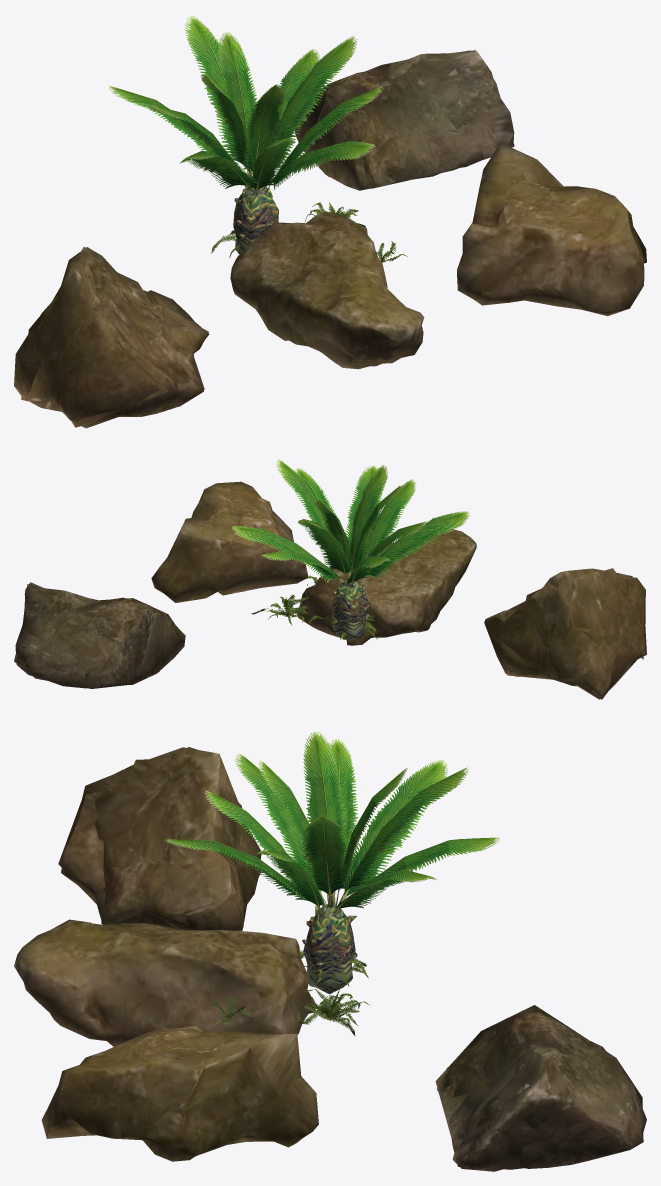
Rendered from realiste.glb.
3 renders of one model, top to bottom at view 1: azimuth 30°, elevation 25°; view 2: azimuth 150°, elevation 25°; view 3: azimuth 270°, elevation 25°, orthographic. The views are drawn at different scales.
Visible parts, largest first — view 1: rock_moss_set_01_rock06, rock_moss_set_01_rock05, rock_moss_set_01_rock04, rock_moss_set_01_rock03, rock_moss_set_01_rock04.001, rock_moss_set_01_rock03.001, Leaf.009_PalmLeaves_0, Leaf_PalmLeaves_0, Leaf.001_PalmLeaves_0, Leaf.010_PalmLeaves_0, Trunk_PalmTrunk_0, Leaf.008_PalmLeaves_0 (+7 smaller); view 2: rock_moss_set_01_rock06, rock_moss_set_01_rock04, rock_moss_set_01_rock05, rock_moss_set_01_rock03, rock_moss_set_01_rock04.001, rock_moss_set_01_rock03.001, Leaf.006_PalmLeaves_0, Trunk_PalmTrunk_0, Leaf.010_PalmLeaves_0, Leaf.004_PalmLeaves_0, Leaf.001_PalmLeaves_0, Leaf.002_PalmLeaves_0 (+9 smaller); view 3: rock_moss_set_01_rock05, rock_moss_set_01_rock06, rock_moss_set_01_rock04, rock_moss_set_01_rock03, rock_moss_set_01_rock04.001, rock_moss_set_01_rock03.001, Trunk_PalmTrunk_0, Leaf.005_PalmLeaves_0, Leaf.012_PalmLeaves_0, Leaf.009_PalmLeaves_0, Leaf.001_PalmLeaves_0, Leaf.006_PalmLeaves_0 (+9 smaller).
Part boxes in pixels (bbox=[...]): rock_moss_set_01_rock06: bbox=[457, 143, 646, 316]; rock_moss_set_01_rock05: bbox=[230, 211, 424, 369]; rock_moss_set_01_rock04: bbox=[14, 247, 208, 428]; rock_moss_set_01_rock03: bbox=[295, 50, 514, 190]; rock_moss_set_01_rock04.001: bbox=[21, 247, 209, 427]; rock_moss_set_01_rock03.001: bbox=[304, 50, 514, 188]; Leaf.009_PalmLeaves_0: bbox=[271, 36, 357, 164]; Leaf_PalmLeaves_0: bbox=[218, 32, 257, 177]; Leaf.001_PalmLeaves_0: bbox=[184, 16, 249, 175]; Leaf.010_PalmLeaves_0: bbox=[243, 84, 285, 172]; Trunk_PalmTrunk_0: bbox=[233, 186, 278, 254]; Leaf.008_PalmLeaves_0: bbox=[263, 141, 375, 190]; rock_moss_set_01_rock06: bbox=[151, 481, 308, 602]; rock_moss_set_01_rock04: bbox=[484, 568, 646, 699]; rock_moss_set_01_rock05: bbox=[297, 529, 476, 645]; rock_moss_set_01_rock03: bbox=[15, 582, 185, 688]; rock_moss_set_01_rock04.001: bbox=[485, 568, 643, 699]; rock_moss_set_01_rock03.001: bbox=[14, 584, 175, 688]; Leaf.006_PalmLeaves_0: bbox=[356, 511, 469, 582]; Trunk_PalmTrunk_0: bbox=[332, 580, 367, 639]; Leaf.010_PalmLeaves_0: bbox=[349, 465, 387, 571]; Leaf.004_PalmLeaves_0: bbox=[358, 479, 416, 582]; Leaf.001_PalmLeaves_0: bbox=[298, 518, 351, 583]; Leaf.002_PalmLeaves_0: bbox=[232, 526, 343, 582]; rock_moss_set_01_rock05: bbox=[14, 919, 315, 1046]; rock_moss_set_01_rock06: bbox=[41, 1026, 318, 1161]; rock_moss_set_01_rock04: bbox=[61, 747, 261, 930]; rock_moss_set_01_rock03: bbox=[437, 1011, 646, 1171]; rock_moss_set_01_rock04.001: bbox=[58, 747, 261, 927]; rock_moss_set_01_rock03.001: bbox=[435, 1005, 643, 1169]; Trunk_PalmTrunk_0: bbox=[303, 904, 355, 994]; Leaf.005_PalmLeaves_0: bbox=[341, 760, 447, 901]; Leaf.012_PalmLeaves_0: bbox=[303, 731, 347, 904]; Leaf.009_PalmLeaves_0: bbox=[302, 815, 349, 907]; Leaf.001_PalmLeaves_0: bbox=[338, 767, 468, 904]; Leaf.006_PalmLeaves_0: bbox=[234, 753, 324, 906].
Size of the model in its own units: 7.76 by 2.99 by 6.28.
5 materials, 5 textured.
